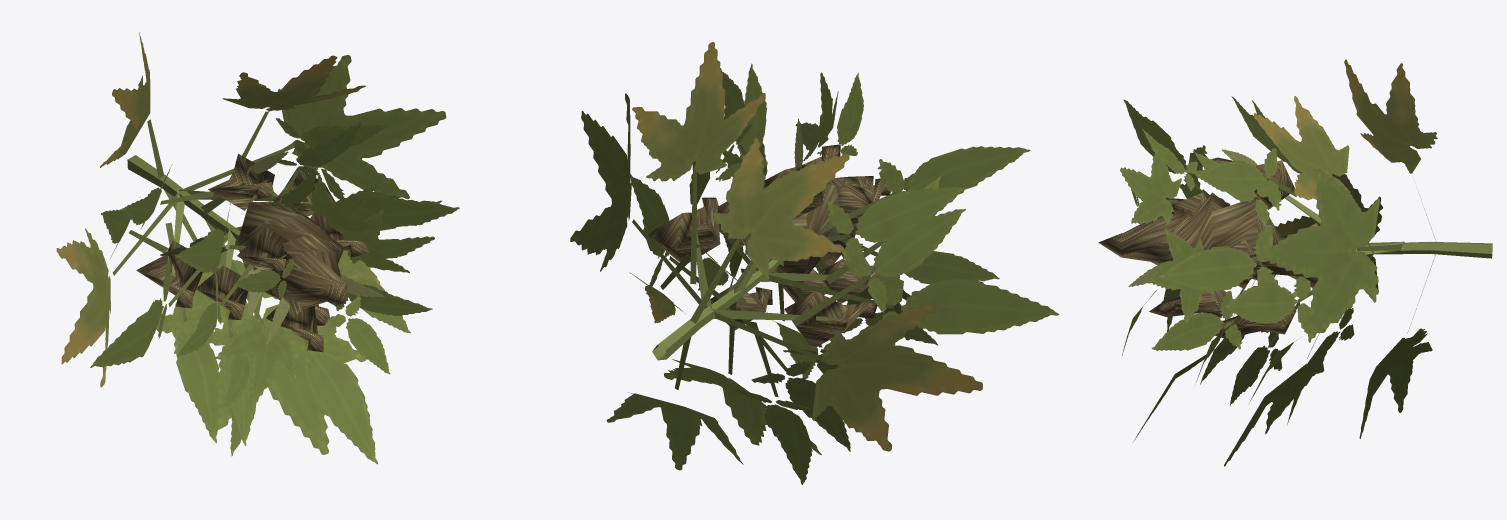
The model's file is p_dark_auto_ripe_c1_cards.obj.
The picture shows the model from 3 angles, left to right: view 1: azimuth 30°, elevation 25°; view 2: azimuth 150°, elevation 25°; view 3: azimuth 270°, elevation 25°; orthographic projection. The views are drawn at different scales.
Size of the model in its own units: 1.25 by 1.15 by 0.947.
Materials: 1 (1 with a texture image).
